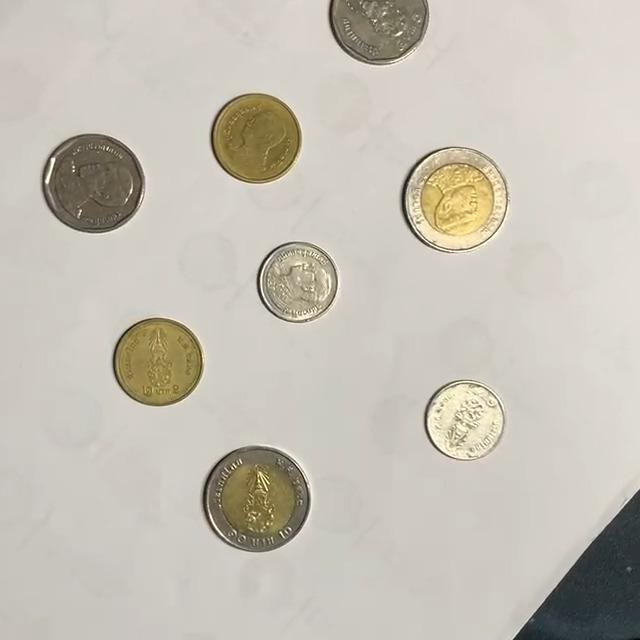1-baht: (424, 379, 509, 462), (257, 242, 340, 324)
10-baht: (403, 146, 511, 253), (204, 447, 312, 553)
2-baht: (212, 93, 304, 184), (114, 317, 205, 408)
5-baht: (43, 133, 147, 234), (329, 0, 431, 68)
